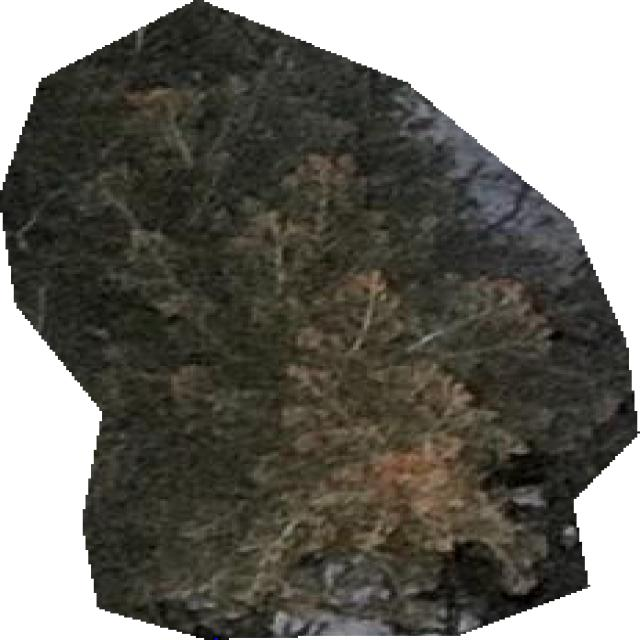spruce: (0, 0, 637, 638)
